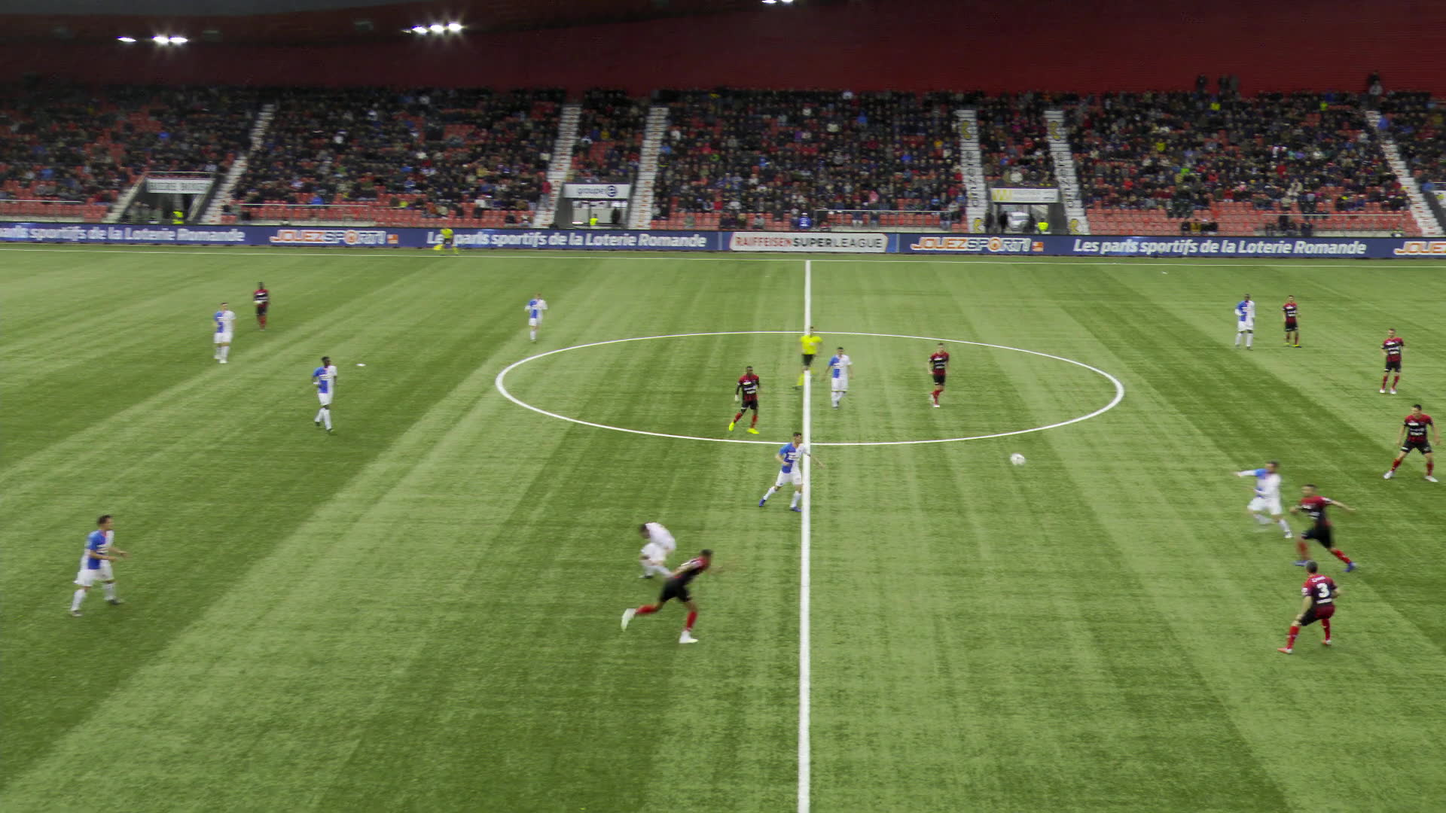ball: (1006, 451, 1023, 464)
player: (636, 533, 736, 640), (1299, 484, 1369, 577), (76, 513, 136, 617), (1287, 560, 1344, 657), (766, 431, 826, 512), (1247, 460, 1309, 537), (1391, 403, 1438, 483), (642, 516, 687, 583), (734, 366, 766, 434), (315, 357, 343, 432), (826, 347, 858, 410), (1381, 329, 1409, 394), (218, 300, 243, 363), (930, 343, 954, 407), (1237, 295, 1260, 351), (529, 294, 553, 342), (1283, 295, 1304, 349), (258, 282, 277, 330)
referee: (803, 328, 831, 391), (438, 225, 465, 256)
